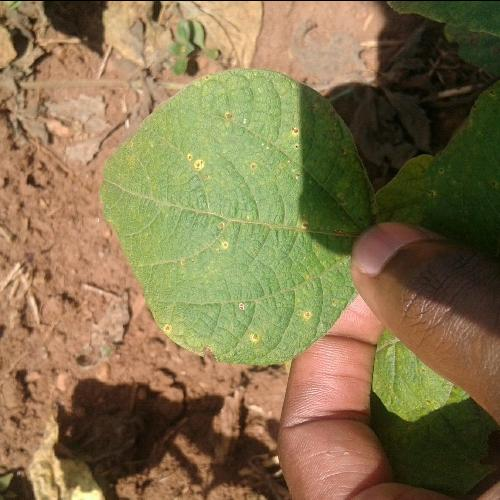hawar: (178, 96, 308, 186), (220, 260, 340, 350), (200, 206, 332, 252)
